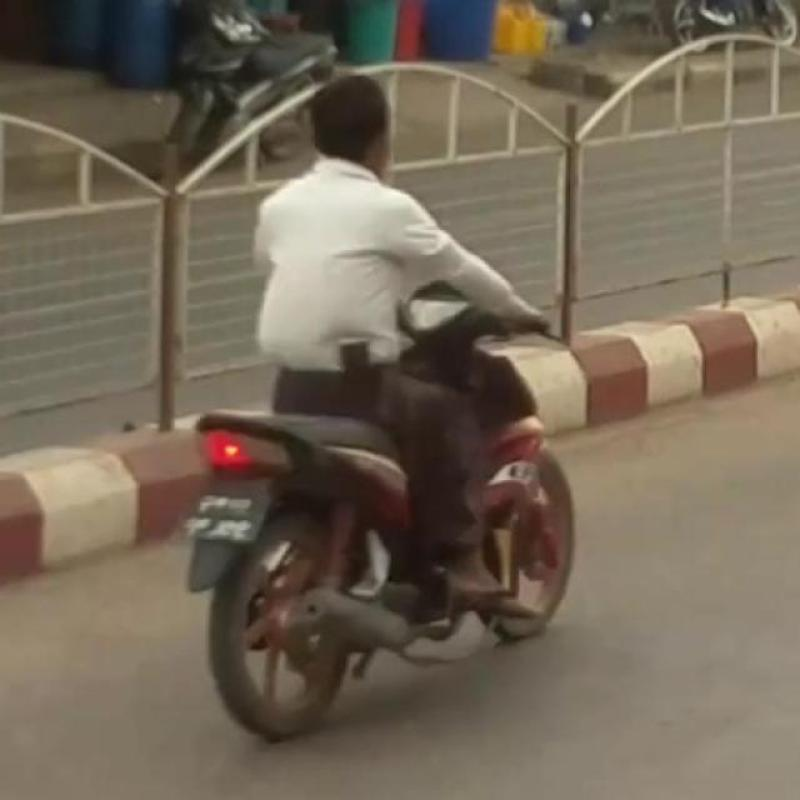nohelmet: (279, 61, 439, 203)
